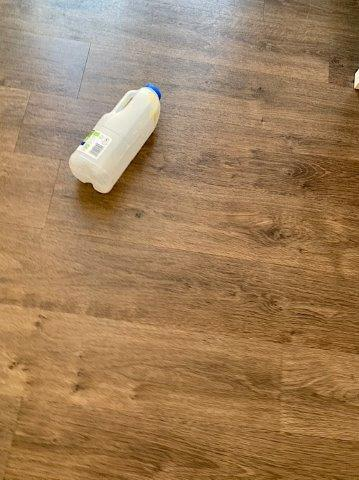botolplastik: (71, 84, 159, 194)
